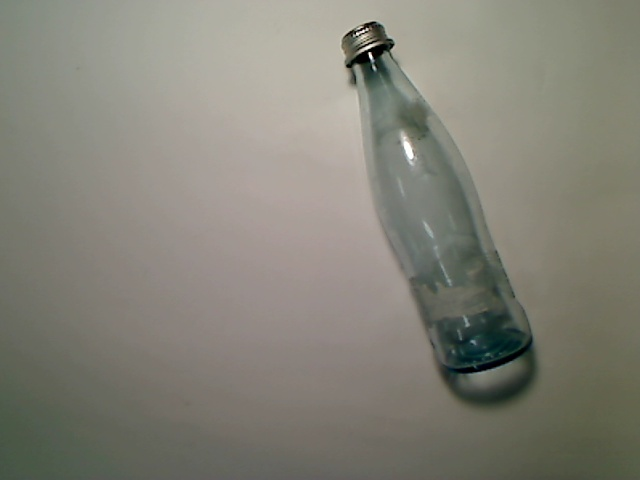bottle: (339, 21, 533, 374)
